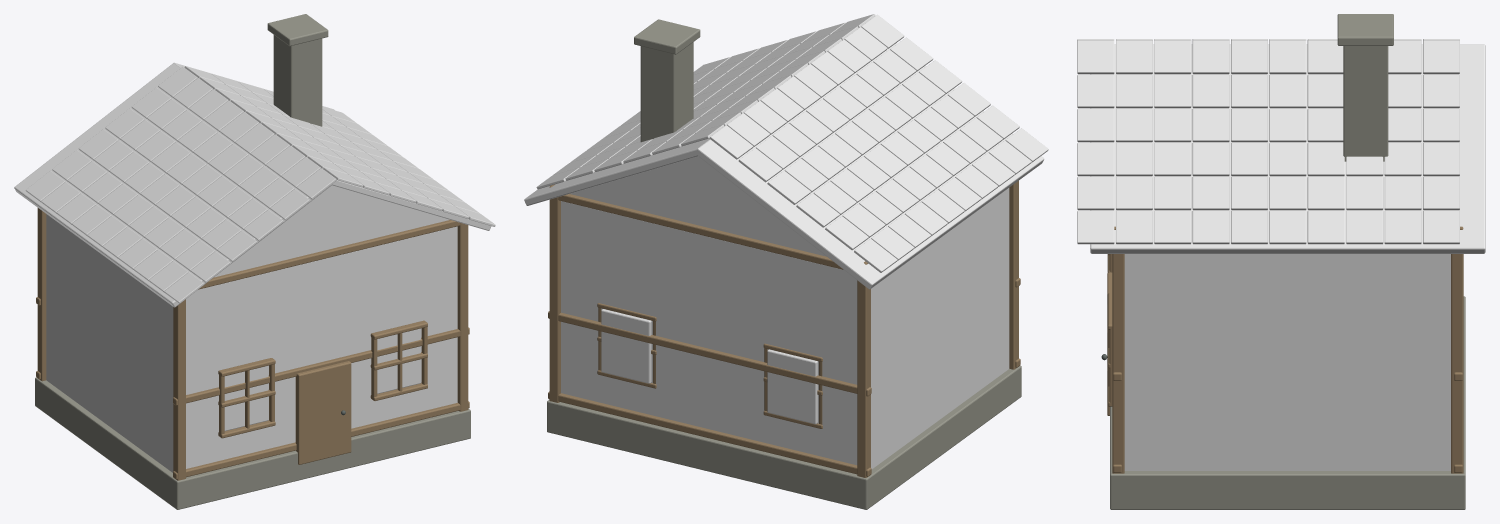
The model's file is house_1.glb.
The picture shows the model from 3 angles, left to right: view 1: azimuth 30°, elevation 25°; view 2: azimuth 150°, elevation 25°; view 3: azimuth 270°, elevation 25°; orthographic projection. The views are drawn at different scales.
Parts seen in each view (by area): view 1: corner timber; view 2: corner timber; view 3: corner timber.
Boxes of the visible parts, bbox=[...] form: corner timber: bbox=[14, 14, 495, 509]; corner timber: bbox=[524, 14, 1048, 509]; corner timber: bbox=[1077, 14, 1485, 509].
Bounding box in the file's own units: 8.15 × 8.64 × 7.23.
